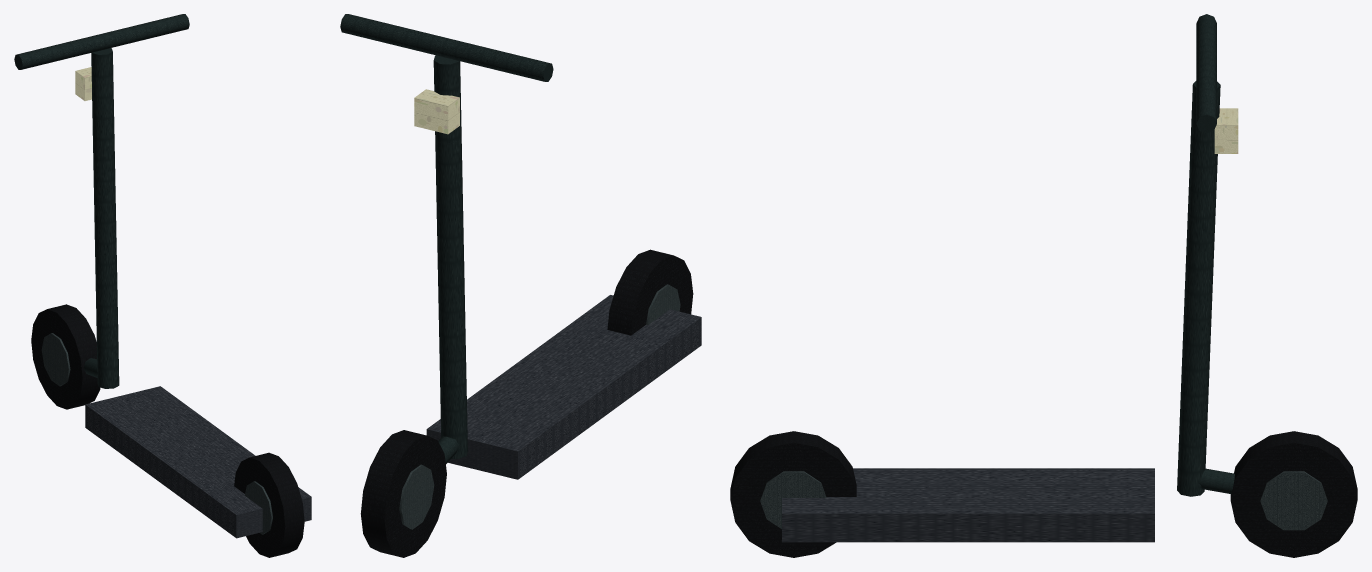
File: scooter_blender.glb
The picture shows the model from 3 angles, left to right: view 1: azimuth 30°, elevation 25°; view 2: azimuth 150°, elevation 25°; view 3: azimuth 270°, elevation 25°; orthographic projection. The views are drawn at different scales.
Visible parts, largest first — view 1: _MeshInstance3D_50, _MeshInstance3D_51, _MeshInstance3D_44, _MeshInstance3D_48, _MeshInstance3D_53, _MeshInstance3D_45, _MeshInstance3D_49, _MeshInstance3D_54; view 2: _MeshInstance3D_50, _MeshInstance3D_51, _MeshInstance3D_44, _MeshInstance3D_53, _MeshInstance3D_48, _MeshInstance3D_54, _MeshInstance3D_45, _MeshInstance3D_49; view 3: _MeshInstance3D_50, _MeshInstance3D_51, _MeshInstance3D_44, _MeshInstance3D_48, _MeshInstance3D_45, _MeshInstance3D_53, _MeshInstance3D_49, _MeshInstance3D_54.
Part boxes in pixels (x1=…): _MeshInstance3D_50: x1=85, y1=386, x2=311, y2=538; _MeshInstance3D_51: x1=91, y1=48, x2=119, y2=388; _MeshInstance3D_44: x1=31, y1=304, x2=100, y2=409; _MeshInstance3D_48: x1=234, y1=452, x2=304, y2=557; _MeshInstance3D_53: x1=14, y1=14, x2=189, y2=69; _MeshInstance3D_45: x1=41, y1=333, x2=70, y2=386; _MeshInstance3D_49: x1=244, y1=481, x2=272, y2=534; _MeshInstance3D_54: x1=75, y1=67, x2=91, y2=100; _MeshInstance3D_50: x1=426, y1=295, x2=701, y2=479; _MeshInstance3D_51: x1=433, y1=55, x2=467, y2=458; _MeshInstance3D_44: x1=360, y1=430, x2=446, y2=557; _MeshInstance3D_53: x1=340, y1=14, x2=553, y2=81; _MeshInstance3D_48: x1=607, y1=249, x2=693, y2=335; _MeshInstance3D_54: x1=414, y1=89, x2=459, y2=134; _MeshInstance3D_45: x1=399, y1=464, x2=434, y2=529; _MeshInstance3D_49: x1=646, y1=284, x2=680, y2=324; _MeshInstance3D_50: x1=782, y1=468, x2=1154, y2=542; _MeshInstance3D_51: x1=1177, y1=81, x2=1220, y2=496; _MeshInstance3D_44: x1=1230, y1=431, x2=1357, y2=557; _MeshInstance3D_48: x1=730, y1=431, x2=856, y2=557; _MeshInstance3D_45: x1=1260, y1=471, x2=1327, y2=530; _MeshInstance3D_53: x1=1196, y1=14, x2=1216, y2=133; _MeshInstance3D_49: x1=760, y1=471, x2=826, y2=528; _MeshInstance3D_54: x1=1214, y1=108, x2=1238, y2=153.
Size of the model in its own units: 0.6 by 1.36 by 1.58.
Materials: 5 (5 with a texture image).
